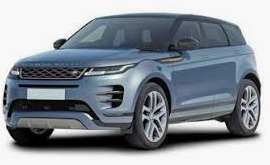car: (1, 11, 262, 152)
